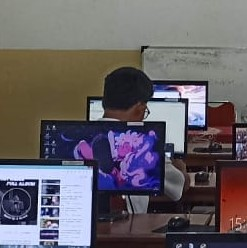monitor: (40, 120, 166, 196), (1, 158, 99, 244), (85, 95, 188, 159), (151, 80, 208, 131), (231, 123, 247, 160)
